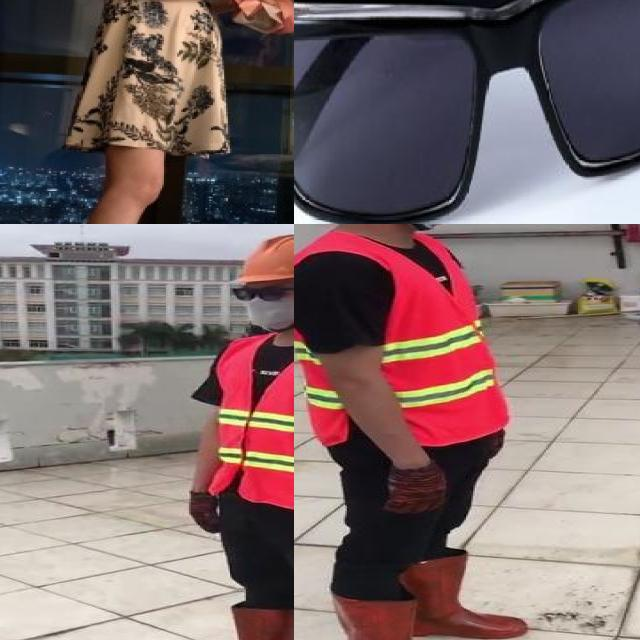boots: (404, 555, 528, 640), (334, 591, 485, 640), (189, 606, 294, 640)
face_mask: (232, 282, 294, 331)
glasses: (294, 0, 640, 224), (227, 282, 294, 304)
hand_glove: (381, 464, 446, 515), (188, 490, 220, 535)
head_helmet: (232, 231, 294, 285)
person: (294, 224, 559, 640), (173, 224, 294, 640)
vest: (294, 229, 508, 444), (212, 332, 294, 506)
